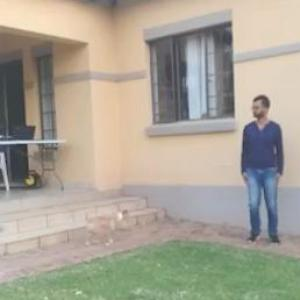follow: (227, 99, 271, 248)
